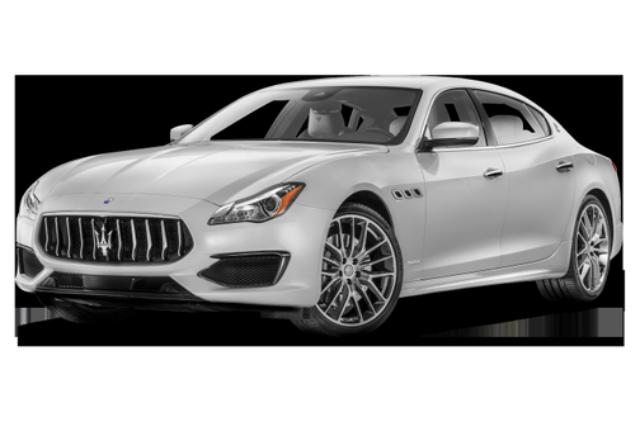maserati: (14, 74, 624, 338)
